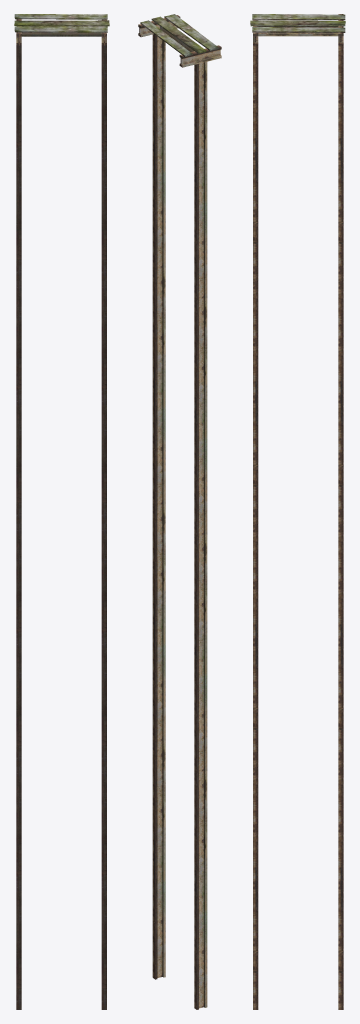
File: RAMPPP-2-TILE.fbx
3 views of the same model, side by side, from view 1: azimuth 90°, elevation 25°; view 2: azimuth 210°, elevation 25°; view 3: azimuth 270°, elevation 25° (orthographic). The views are drawn at different scales.
Visible parts, largest first — view 1: Ramp_001__18___1_; view 2: Ramp_001__18___1_; view 3: Ramp_001__18___1_.
Part boxes in pixels (x1=…): Ramp_001__18___1_: x1=14, y1=14, x2=109, y2=1009; Ramp_001__18___1_: x1=138, y1=14, x2=221, y2=1009; Ramp_001__18___1_: x1=250, y1=14, x2=345, y2=1009.
Size of the model in its own units: 100 by 2330 by 204.
